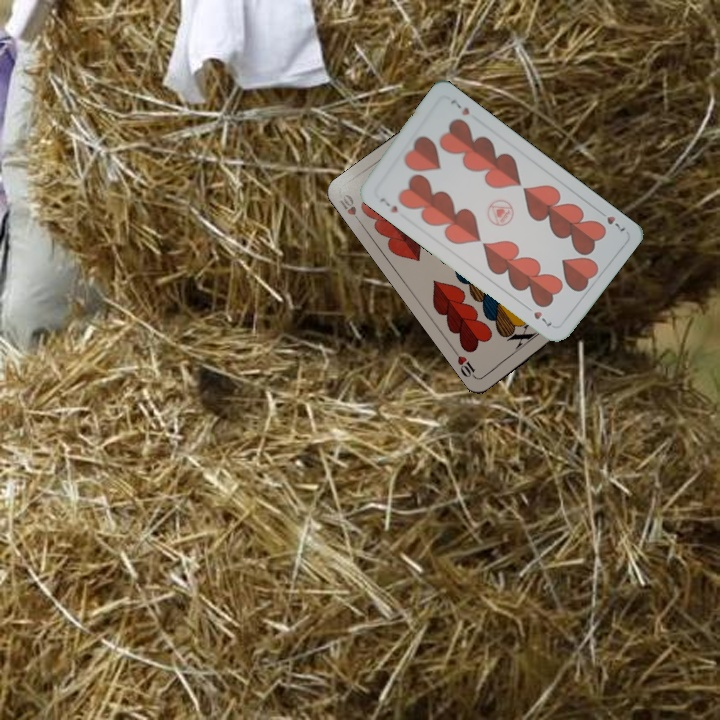H10: (335, 189, 365, 228)
H7: (593, 205, 628, 234), (376, 193, 401, 215)
